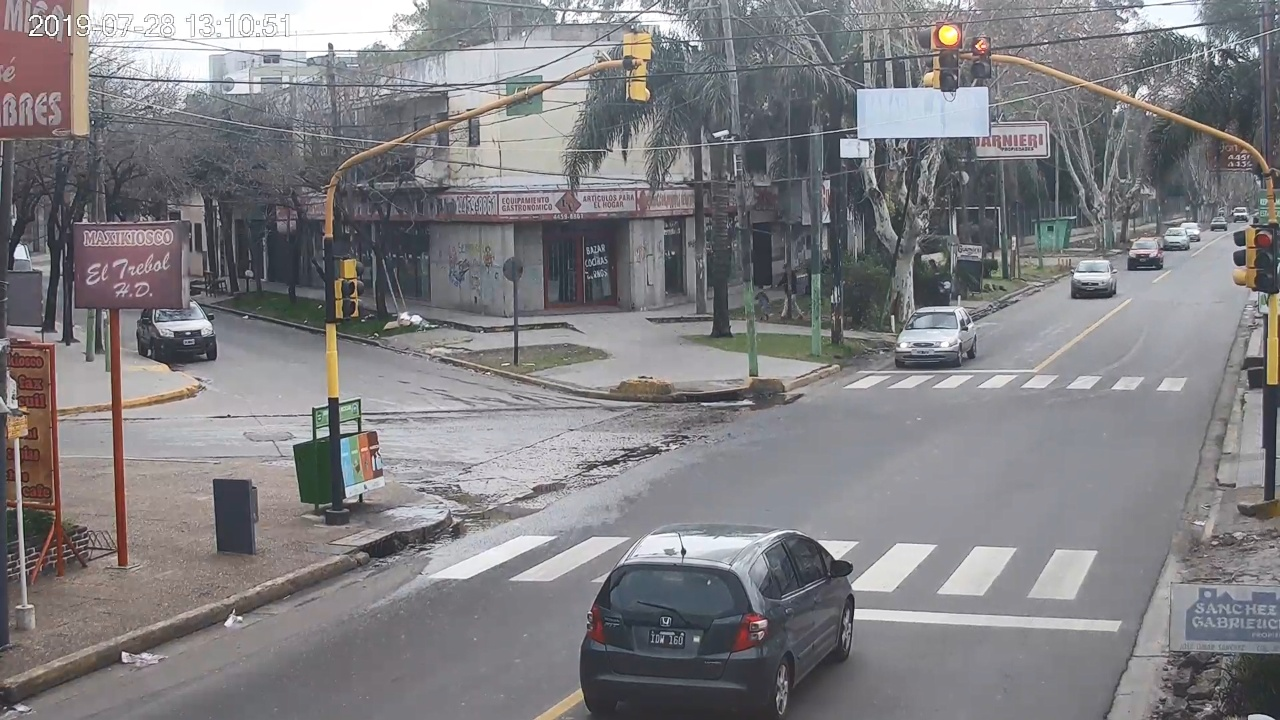car: (581, 524, 856, 720)
front car: (895, 306, 977, 367)
traffic light: (940, 24, 959, 91), (1256, 230, 1273, 289)
